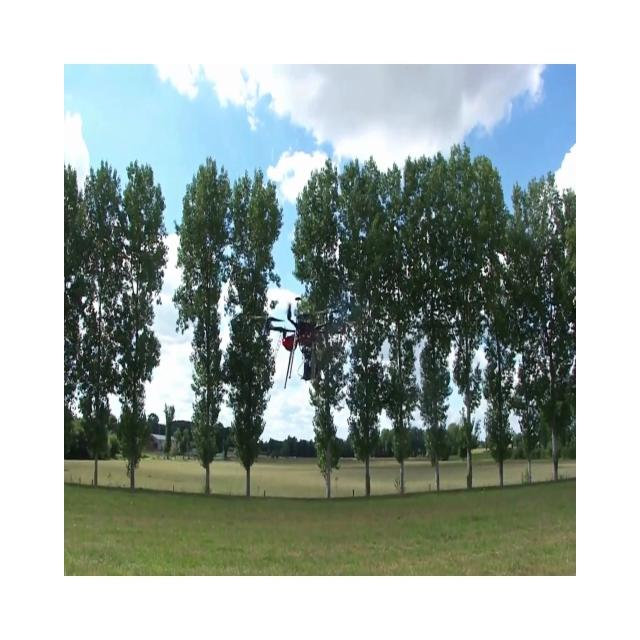drone: (246, 295, 353, 389)
